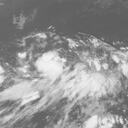cyclone: (36, 50, 109, 99)
